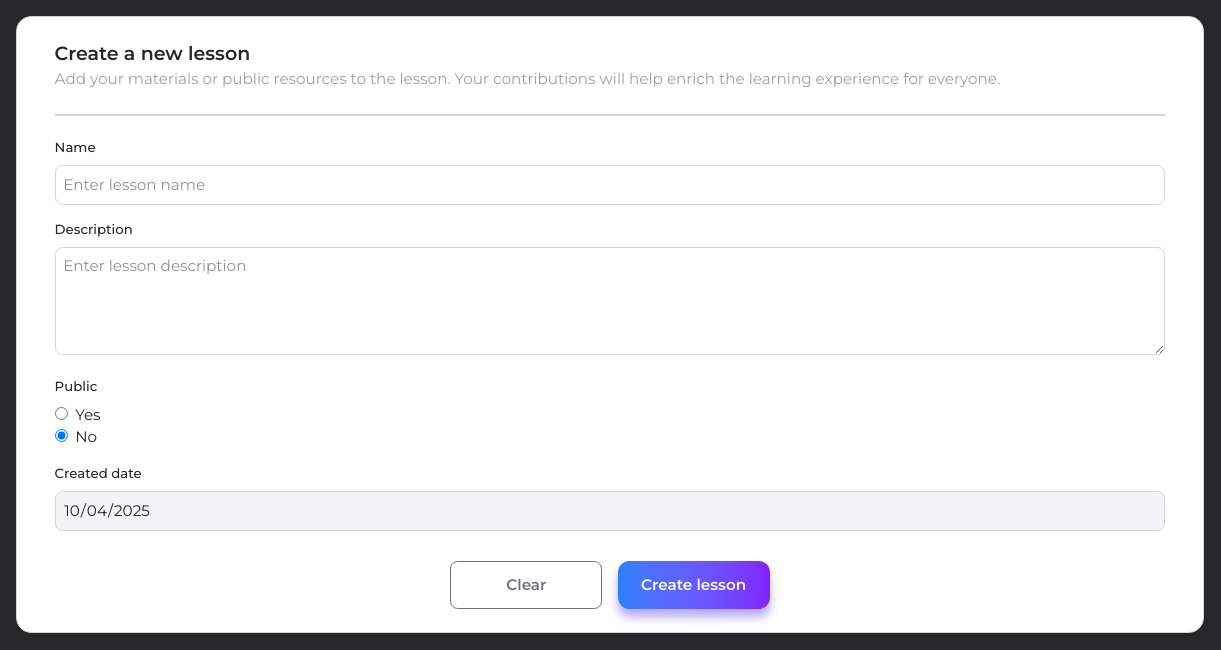
Test: CreateLessonPage Component › Form Reset › should reset form when cancel button is clicked
In the field with placeholder "Enter lesson name": {"x": 610, "y": 185} [55, 165, 1165, 205], type "Test Lesson"
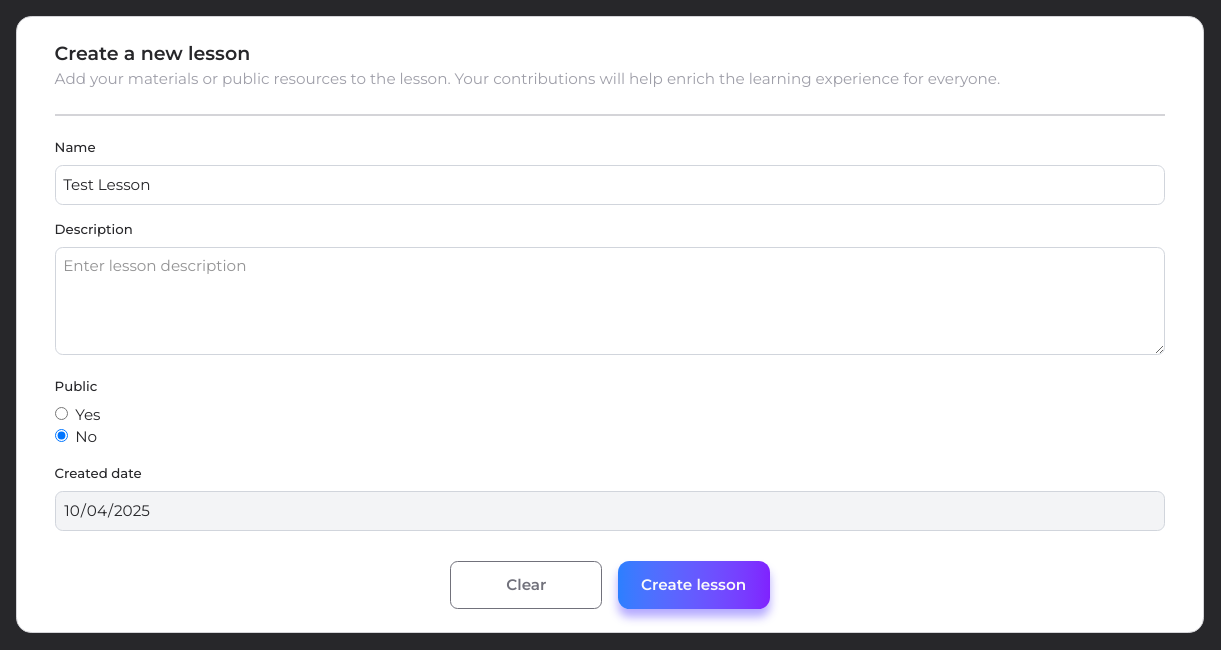
In the text box with placeholder "Enter lesson description": {"x": 610, "y": 301} [55, 247, 1165, 355], type "Test description"
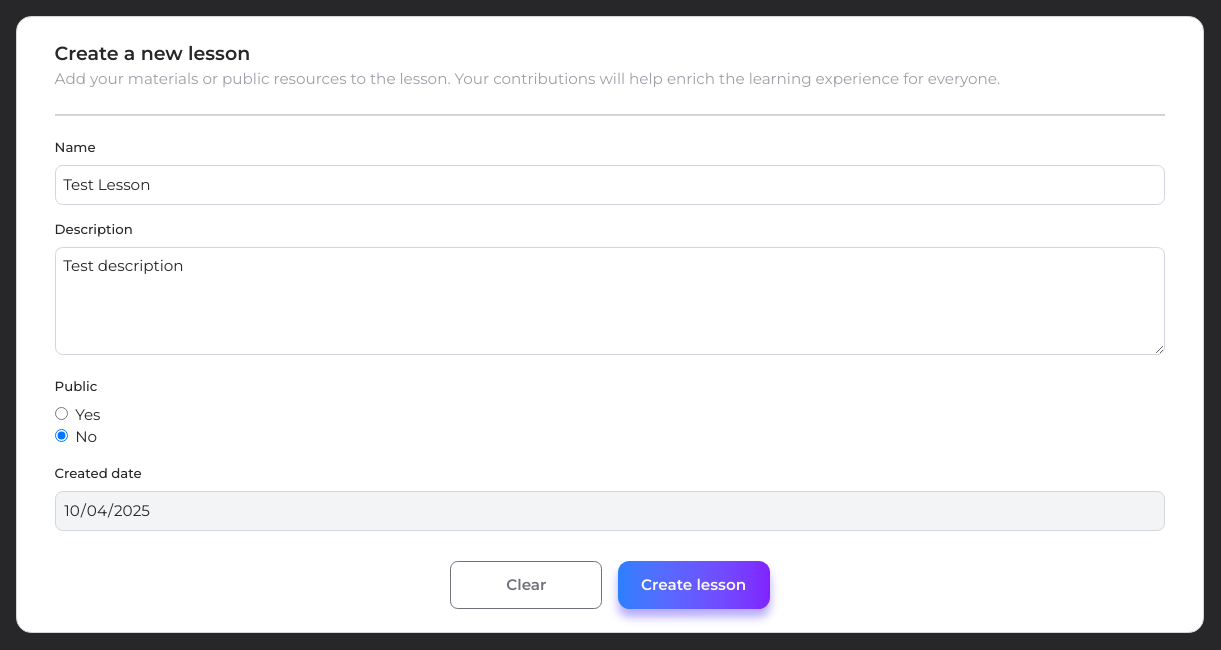
# Click cancel
Click the button "Clear": {"x": 526, "y": 585} [450, 561, 602, 609]
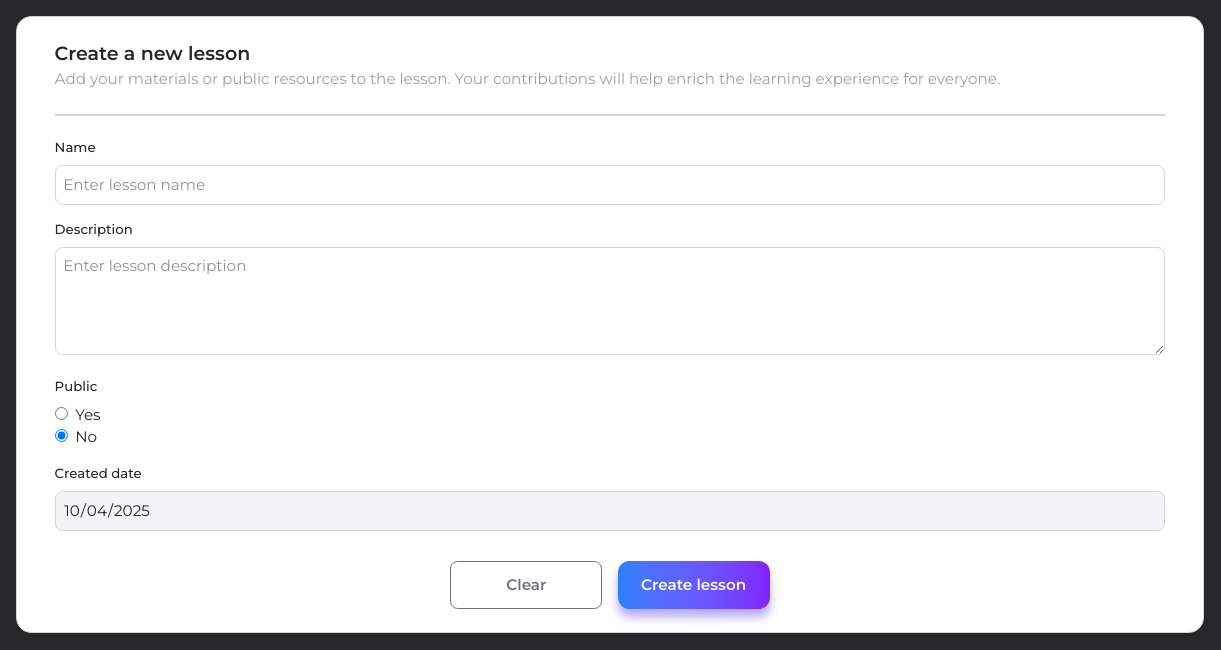
Check: the field with placeholder "Enter lesson name" is empty, box [55, 165, 1165, 205]
Check: the text box with placeholder "Enter lesson description" is empty, box [55, 247, 1165, 355]
